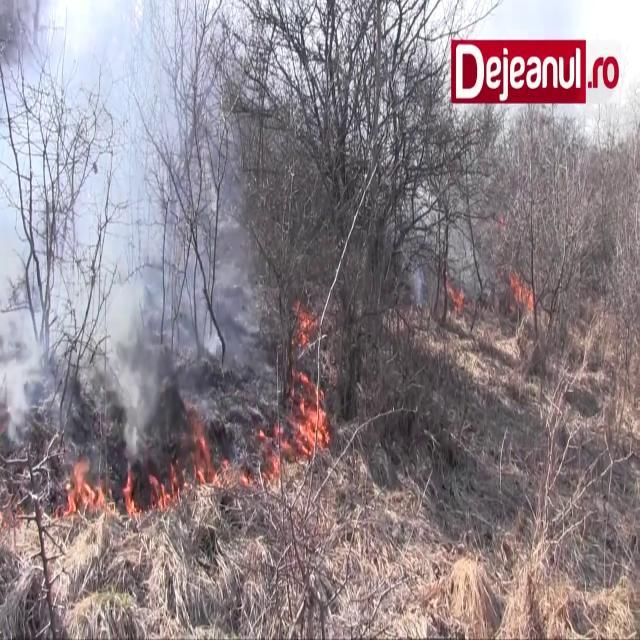Fire: (291, 358, 330, 460), (62, 456, 108, 518)
Smoke: (0, 1, 270, 434)
